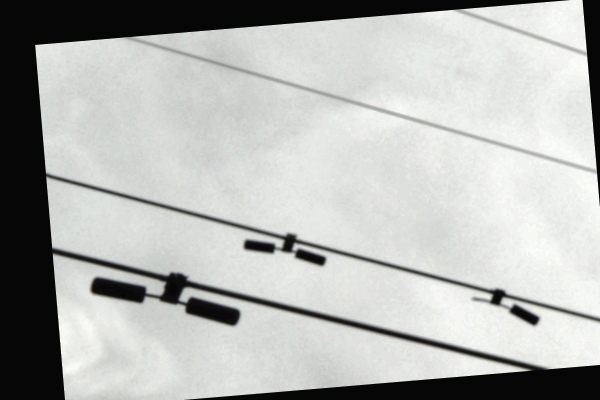damper: (88, 266, 242, 327), (240, 228, 327, 266)
damper_defect: (468, 286, 541, 328)
